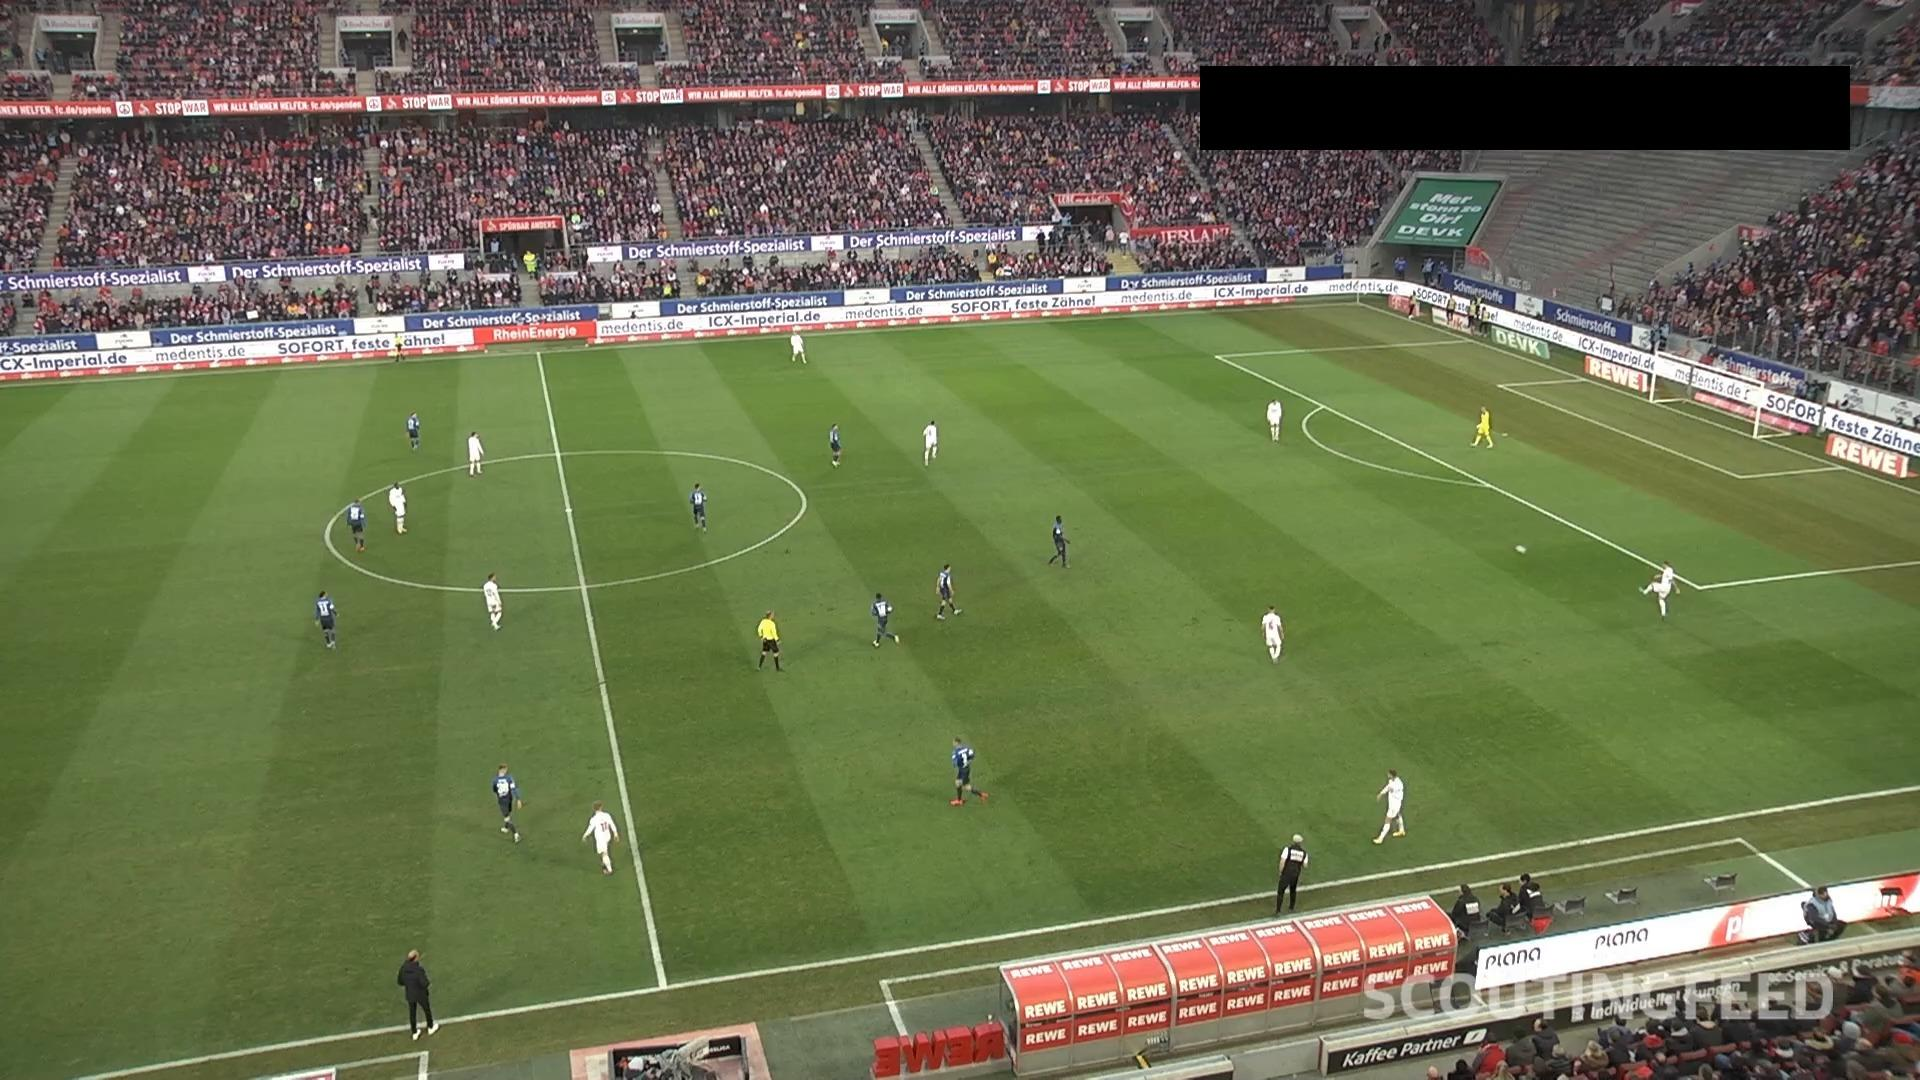ball: (1513, 543, 1528, 556)
